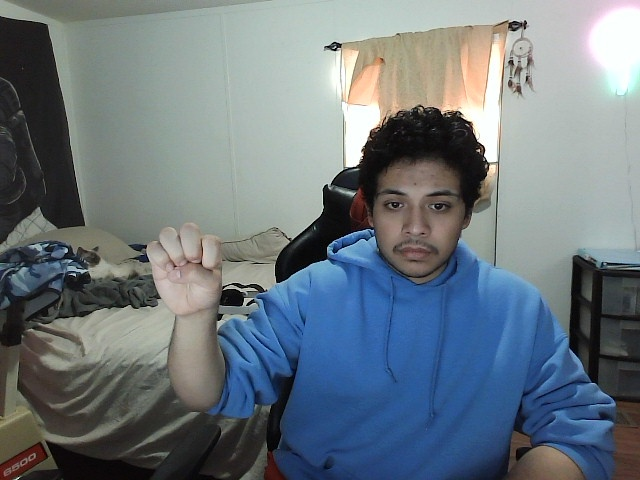E: (140, 219, 230, 321)
